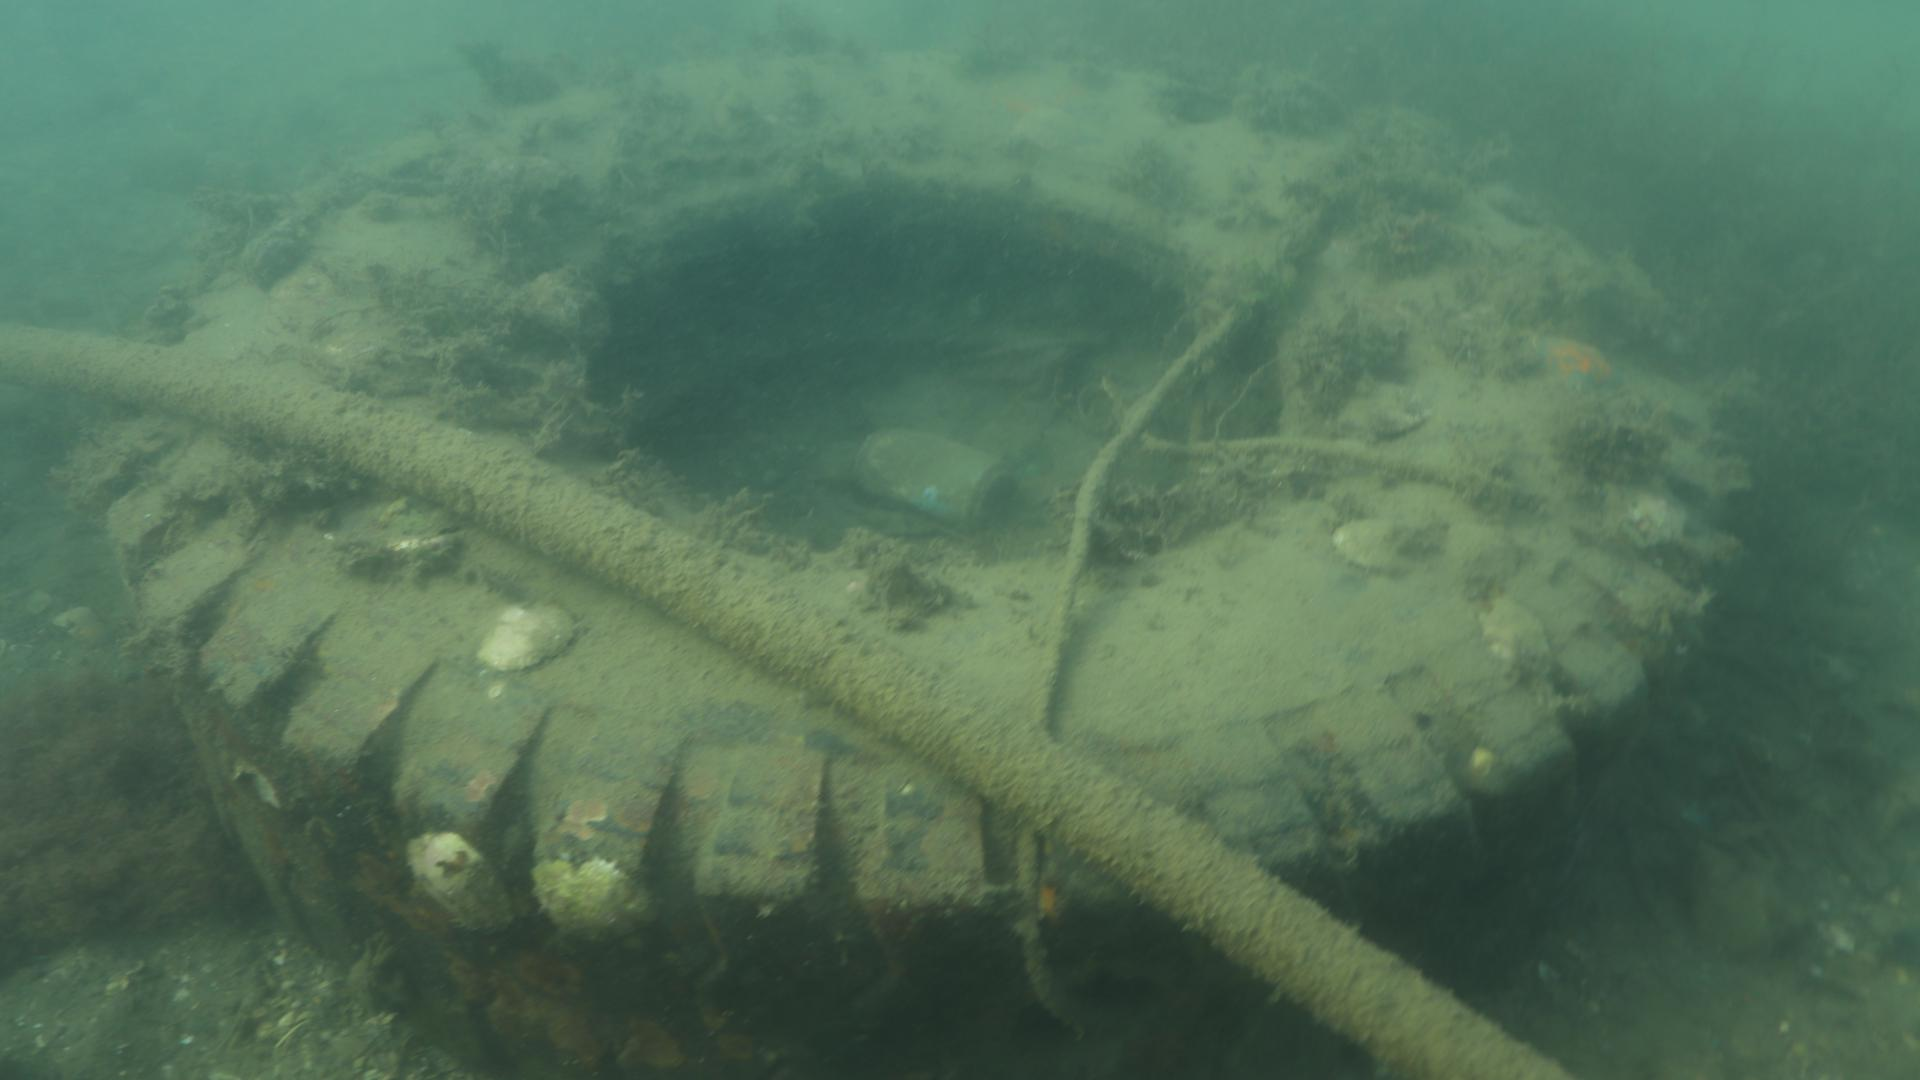rope: (0, 319, 1582, 1080), (1011, 313, 1237, 1039)
tire: (83, 47, 1724, 1080)
